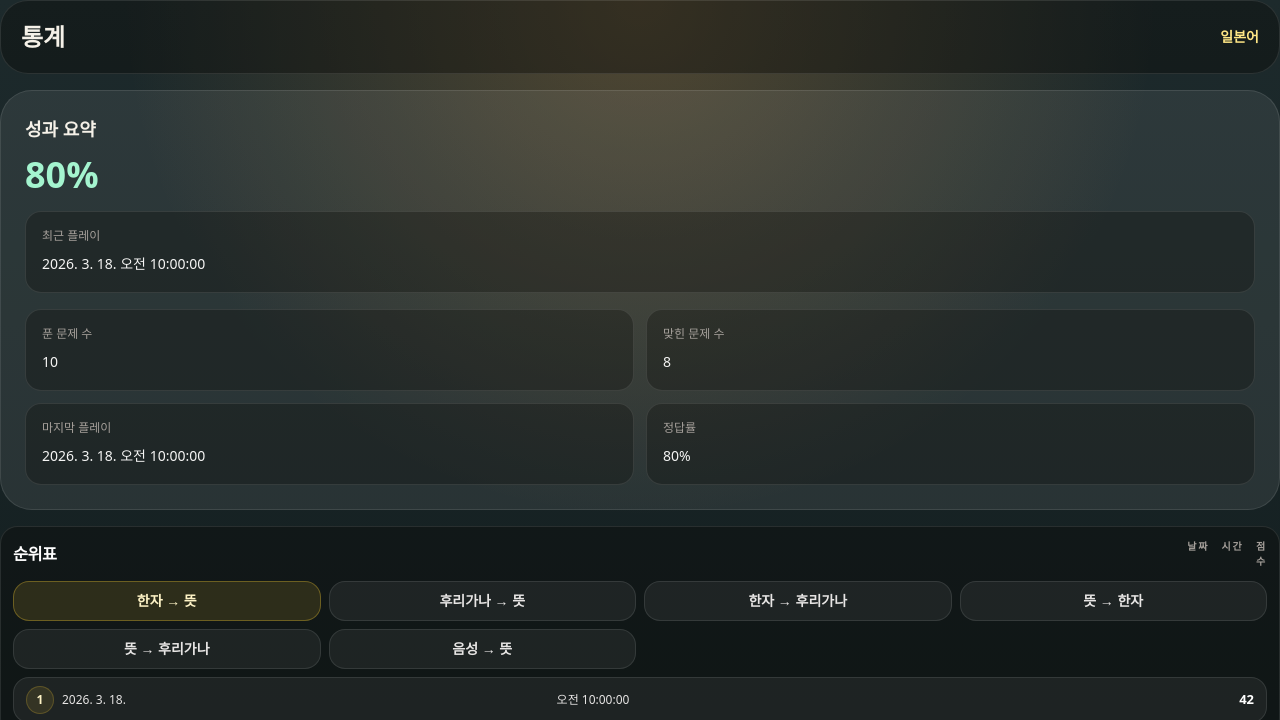
Test: StatsPage › shows reordered sections with quiz-mode leaderboard filtering
This screenshot has width=1280, height=720.
Check: the heading "순위표" is shown, box [13,542,57,566]
Check: the text "42" is shown, box [1239,690,1254,708]
Click the button "뜻 → 한자" at (1113, 601), box [960,581,1267,621]
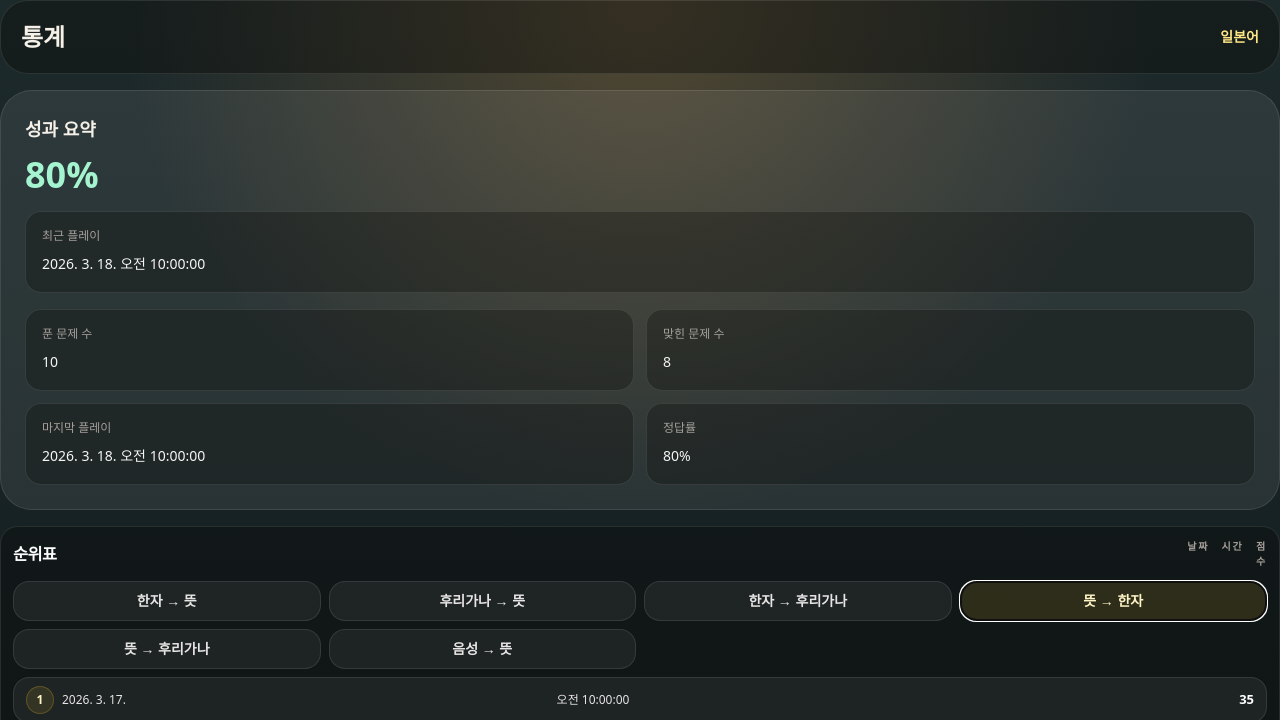
Check: the text "35" is shown, box [1239,690,1254,708]
